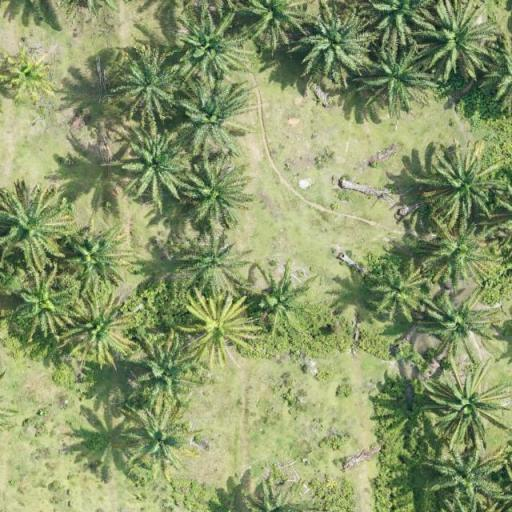Ganoderma: (187, 299, 246, 356), (443, 382, 496, 432), (72, 306, 124, 351), (131, 414, 181, 460), (6, 55, 52, 97)
